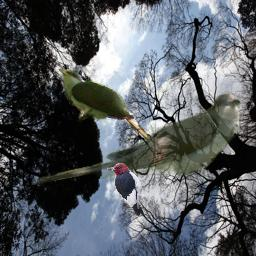Cuckoo: (31, 91, 241, 187), (56, 68, 153, 142)
Woodpecker: (107, 163, 144, 216)
